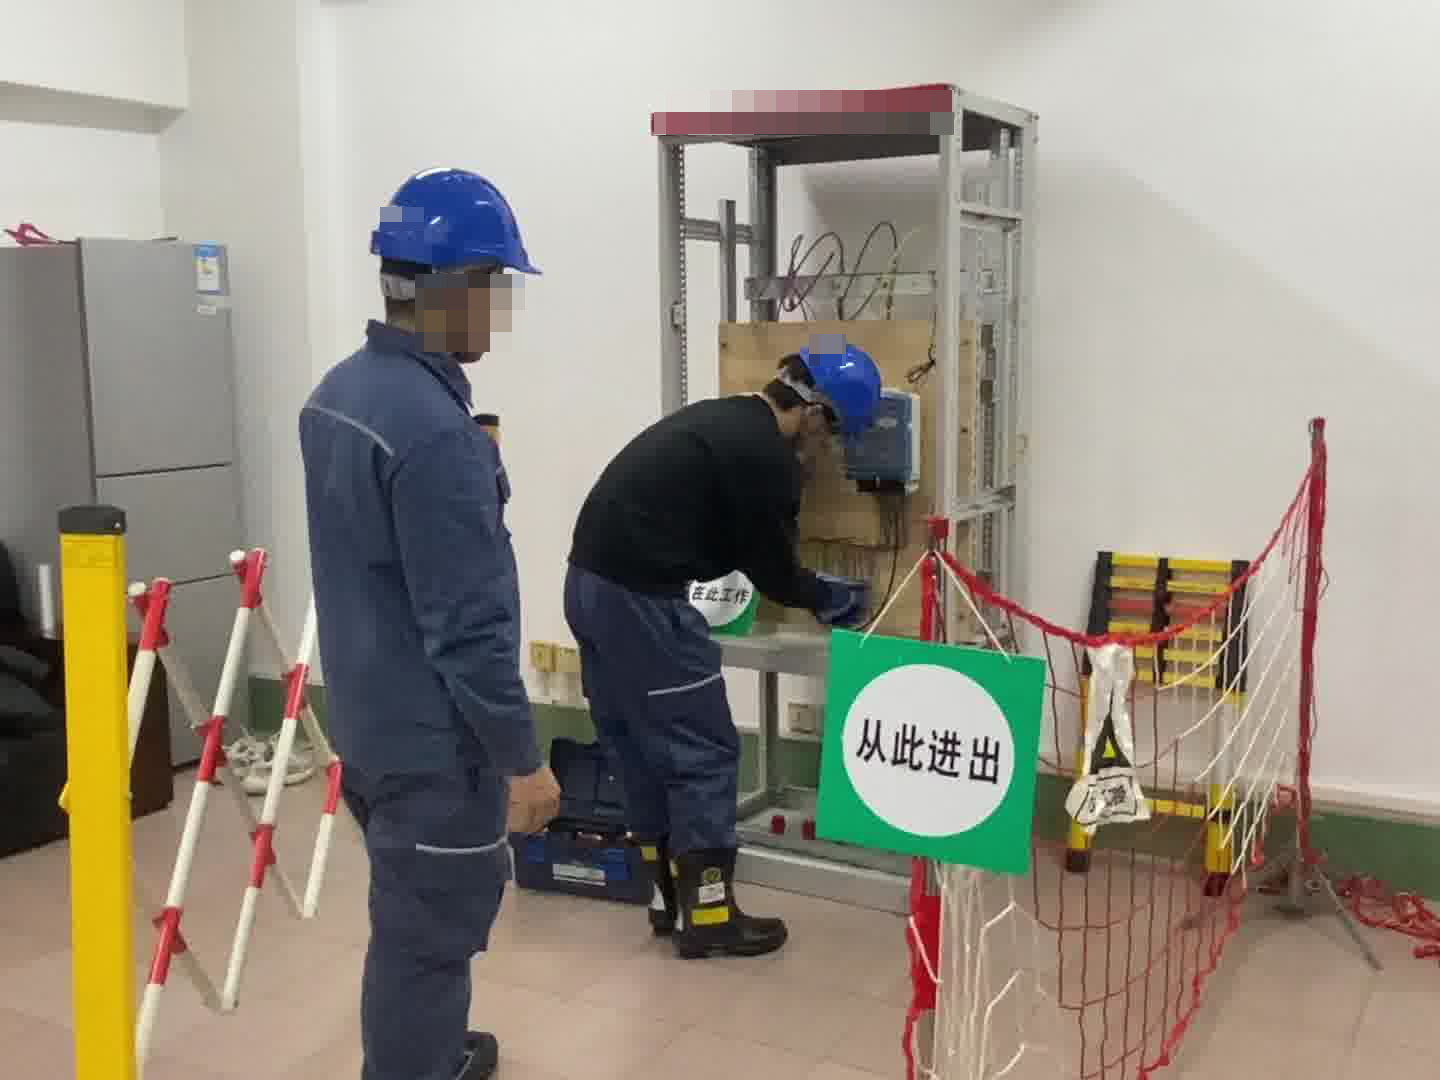downsuit: (343, 756, 526, 1080), (562, 577, 745, 868)
glove: (801, 584, 873, 636)
halt: (360, 165, 544, 361), (768, 341, 889, 450)
hand: (499, 765, 564, 823)
inear: (437, 267, 495, 340)
intosign: (827, 626, 1031, 868)
person: (287, 158, 570, 1080), (566, 322, 895, 965)
shoe: (634, 858, 787, 957)
upcloth: (573, 387, 815, 584)
upsuit: (297, 340, 533, 759)
worksign: (681, 574, 760, 634)
